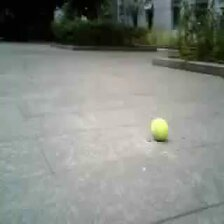tennis: (150, 116, 168, 142)
